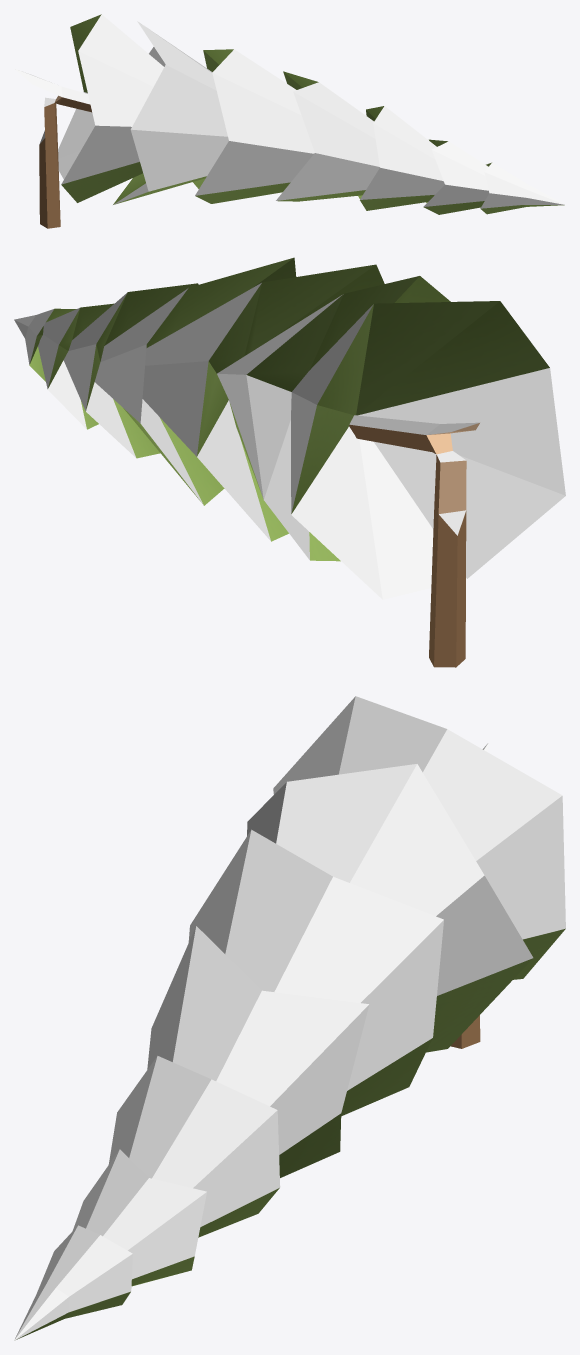
Rendered from Pine_Tree_crk_l_Snow_BT_01.fbx.
3 renders of one model, top to bottom at view 1: azimuth 30°, elevation 25°; view 2: azimuth 150°, elevation 25°; view 3: azimuth 270°, elevation 25°, orthographic. The views are drawn at different scales.
Visible parts, largest first — view 1: Pine_Tree_crk_l_Snow_BT_01; view 2: Pine_Tree_crk_l_Snow_BT_01; view 3: Pine_Tree_crk_l_Snow_BT_01.
Boxes of the visible parts, x1,y1,x2,y2 form: Pine_Tree_crk_l_Snow_BT_01: (14, 14, 564, 228); Pine_Tree_crk_l_Snow_BT_01: (14, 257, 565, 667); Pine_Tree_crk_l_Snow_BT_01: (14, 696, 565, 1340).
Bounding box in the file's own units: 1395 × 640 × 910.
